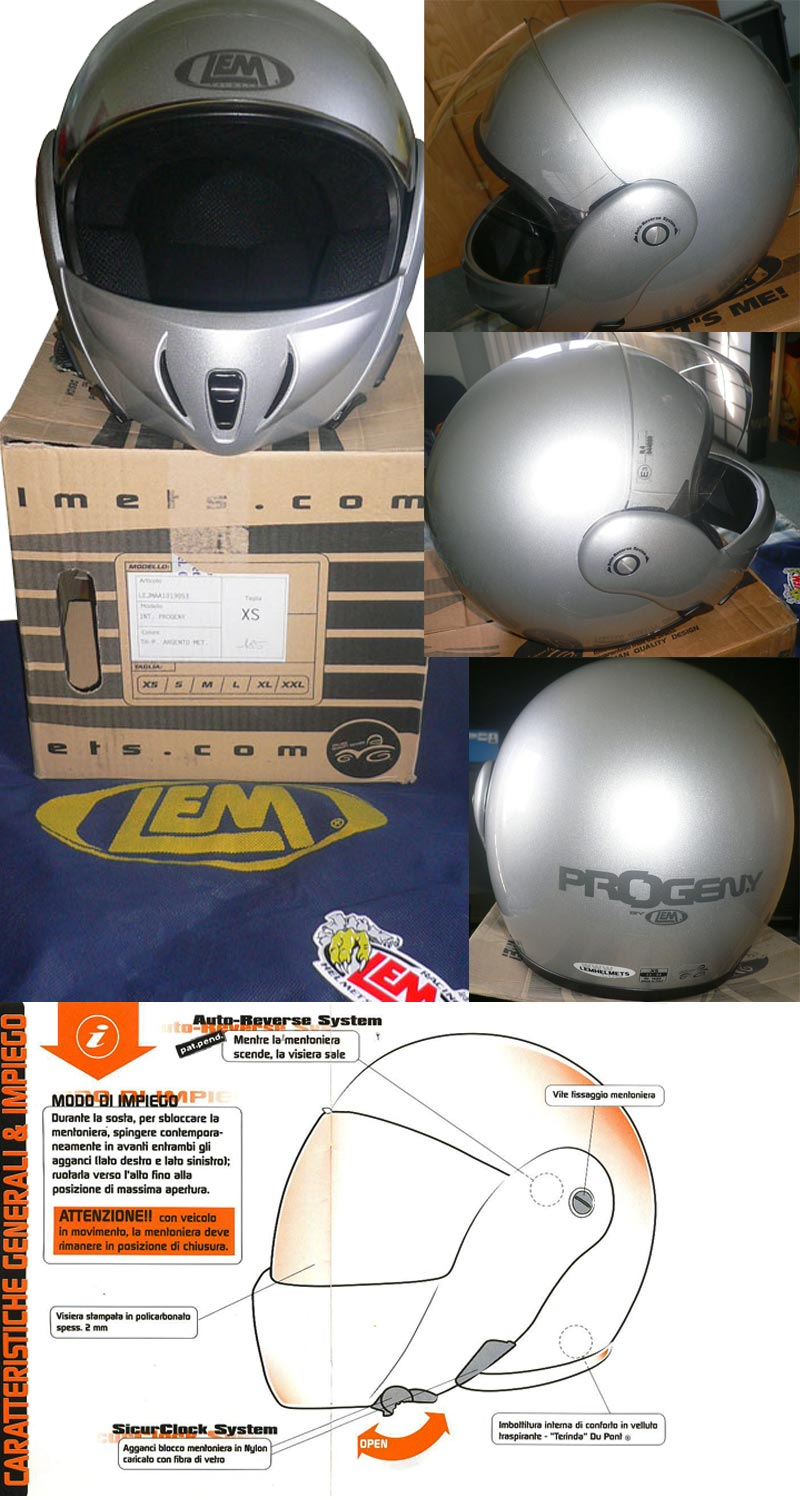helmet: (30, 23, 420, 419), (481, 674, 800, 971), (425, 365, 764, 607), (471, 35, 785, 293)
